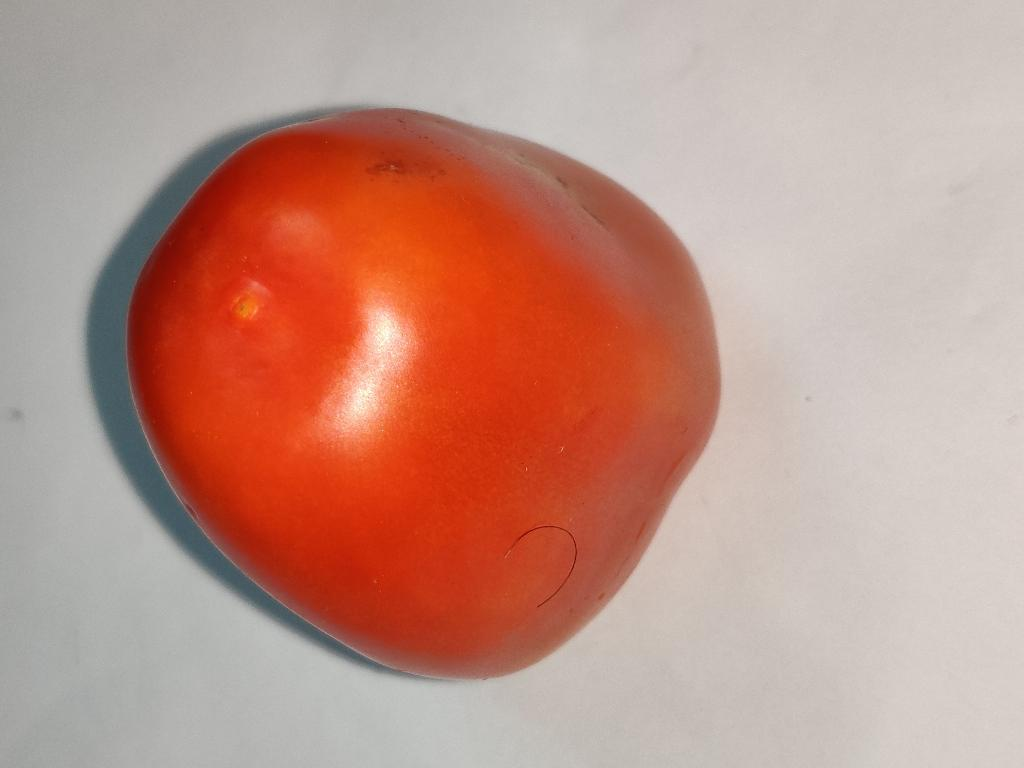tomato: (127, 110, 719, 677)
